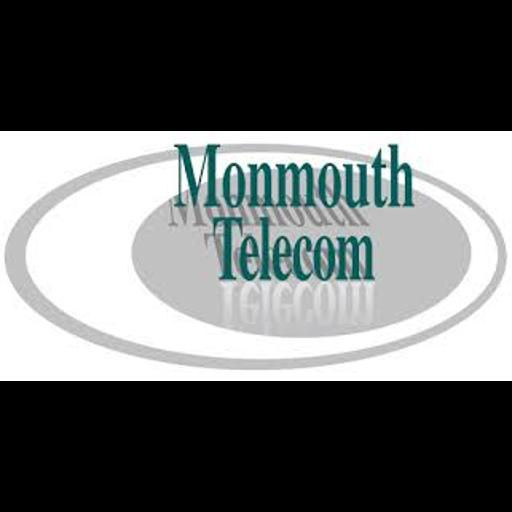Monmouth Telecom: (0, 131, 512, 381)
